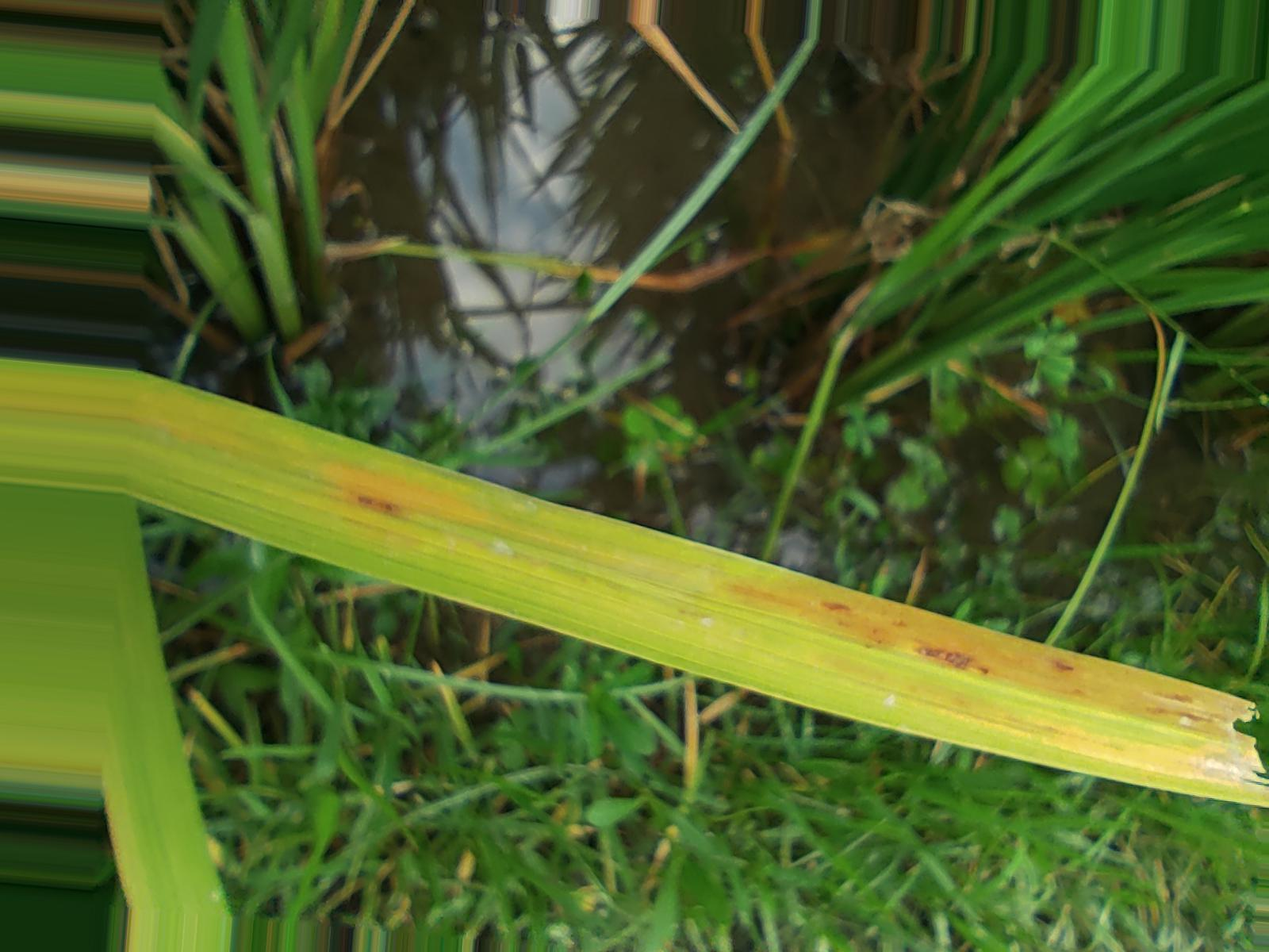LEAF: (127, 371, 1268, 807)
NBS: (920, 646, 973, 668), (1149, 707, 1210, 723), (355, 493, 400, 514), (1163, 691, 1192, 703), (821, 602, 848, 611), (1054, 660, 1073, 670), (891, 618, 909, 627), (839, 621, 851, 628), (980, 667, 989, 675)
